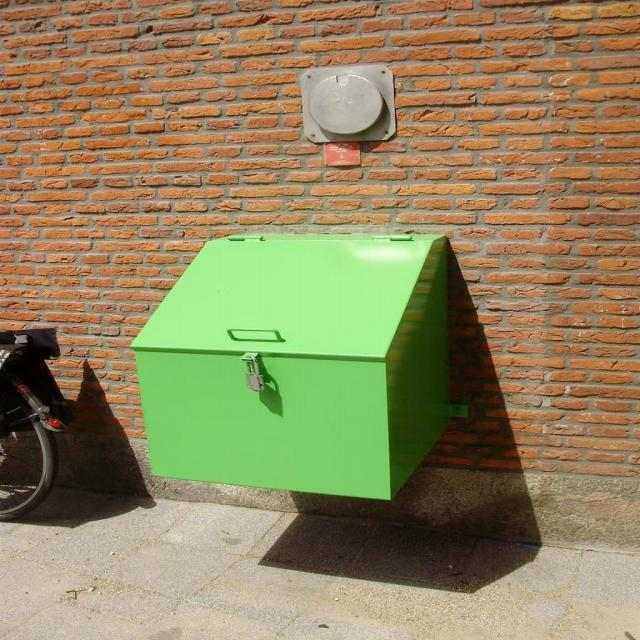Box: (128, 233, 447, 502), (0, 328, 63, 354)
